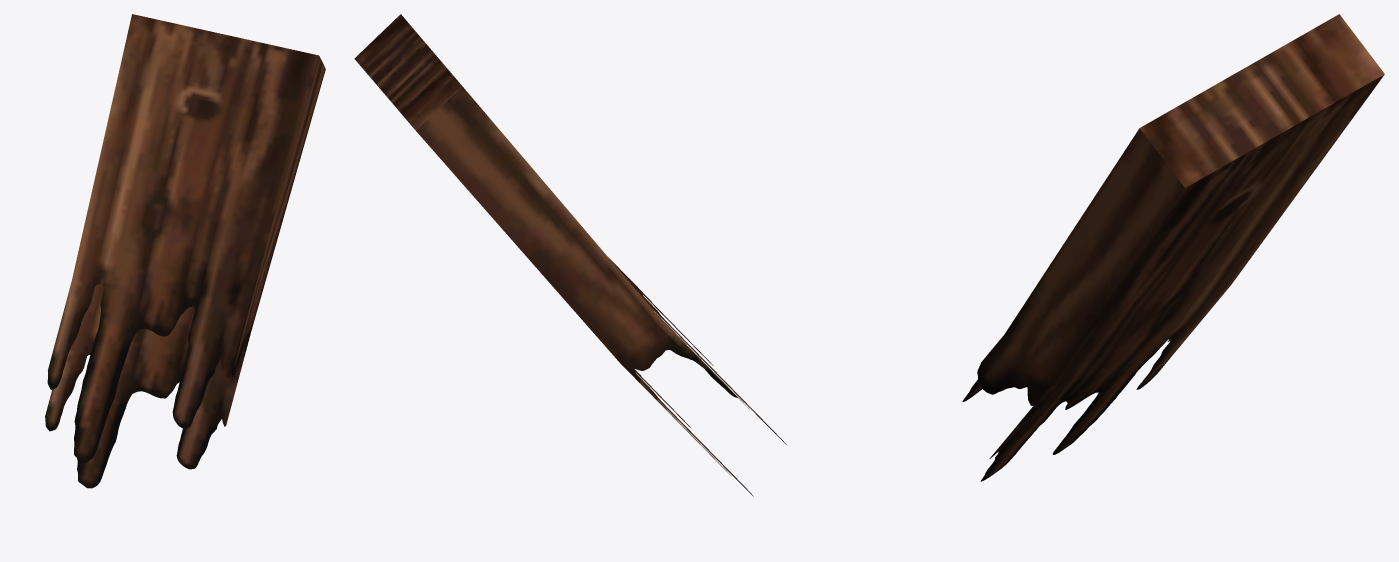
File: OVERHILL_A_01_BROKEN_BOARD_01.fbx
3 renders of one model, left to right at view 1: azimuth 30°, elevation 25°; view 2: azimuth 150°, elevation 25°; view 3: azimuth 270°, elevation 25°, orthographic. The views are drawn at different scales.
Visible parts, largest first — view 1: OVERHILL_A_01_BROKEN_BOARD_01; view 2: OVERHILL_A_01_BROKEN_BOARD_01; view 3: OVERHILL_A_01_BROKEN_BOARD_01.
Part boxes in pixels (box(x1,y1,x2,y2)): OVERHILL_A_01_BROKEN_BOARD_01: box(45, 14, 325, 488); OVERHILL_A_01_BROKEN_BOARD_01: box(354, 14, 786, 496); OVERHILL_A_01_BROKEN_BOARD_01: box(962, 14, 1384, 481).
Size of the model in its own units: 7404 by 8104 by 6333.
1 material, 1 textured.
